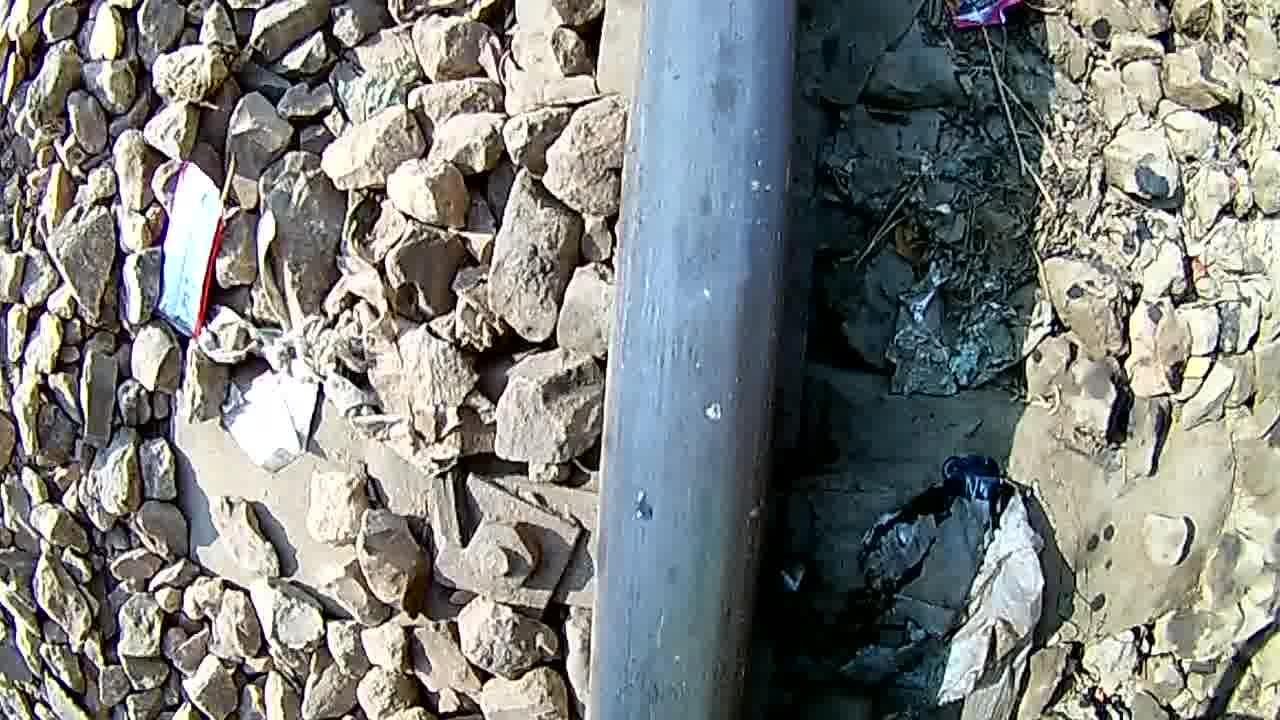bolt_missing: (652, 18, 772, 428)
